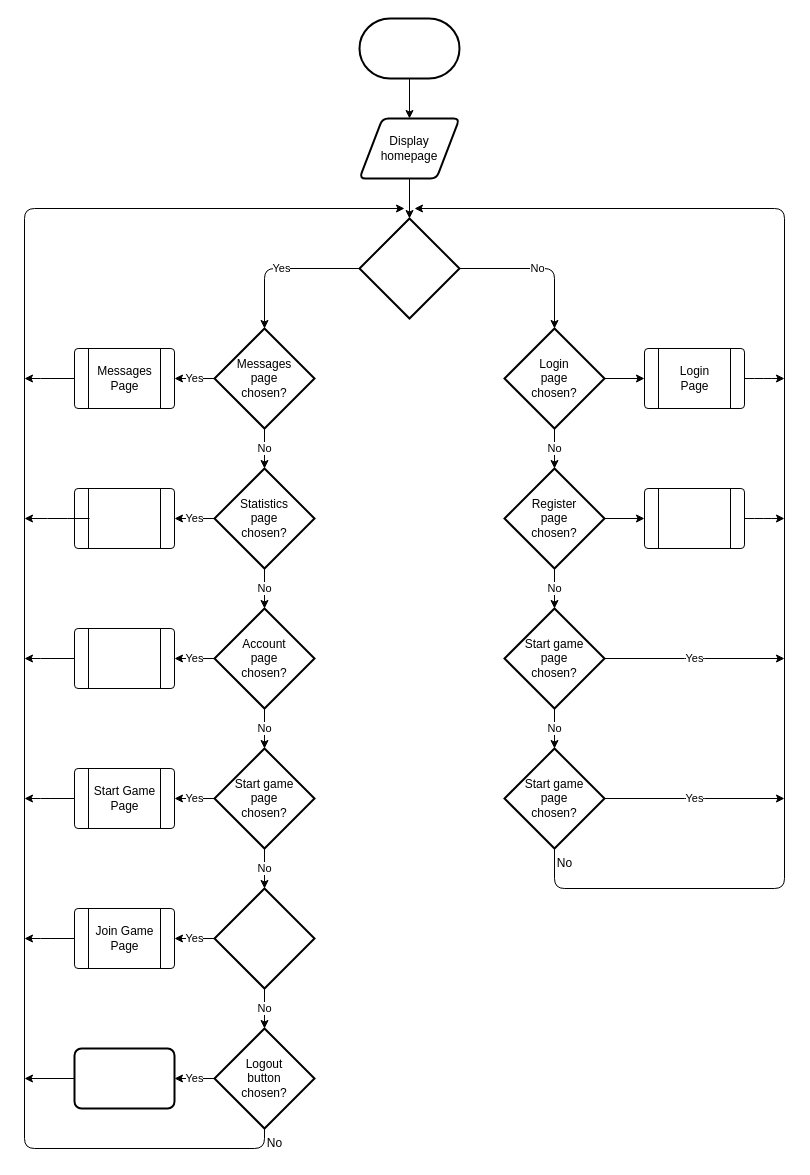
This 810x1175 diagram has some shape labels left out. Each missing label, with the centre of its shape:
"Account Page" belongs at point 124,658.
"Join game page chosen?" belongs at point 264,938.
"Logged in?" belongs at point 409,268.
"Logout" belongs at point 124,1078.
"Register Page" belongs at point 694,518.
"Start" belongs at point 409,48.
"Statistics Page" belongs at point 124,518.
